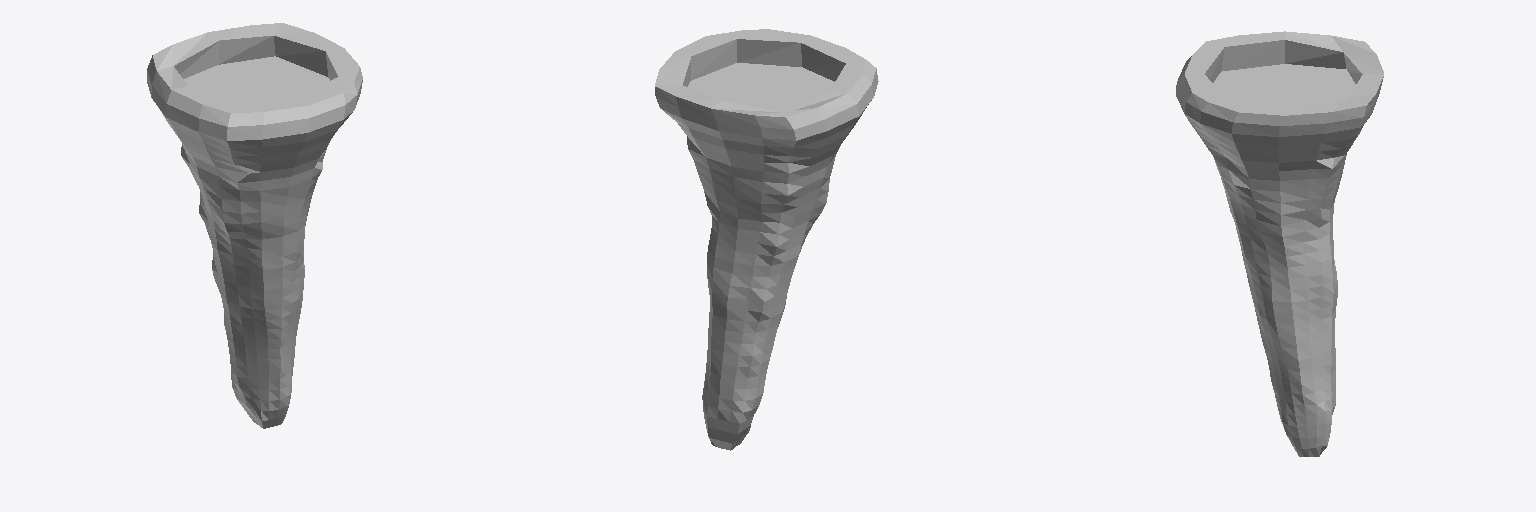
The model's file is Torch.obj.
3 views of the same model, side by side, from view 1: azimuth 30°, elevation 25°; view 2: azimuth 150°, elevation 25°; view 3: azimuth 270°, elevation 25° (orthographic).
Visible parts, largest first — view 1: Cube_Cube.001; view 2: Cube_Cube.001; view 3: Cube_Cube.001.
Boxes of the visible parts, x1=… form: Cube_Cube.001: x1=147, y1=23, x2=362, y2=428; Cube_Cube.001: x1=655, y1=29, x2=878, y2=450; Cube_Cube.001: x1=1176, y1=31, x2=1383, y2=456.
Size of the model in its own units: 31.63 by 61.41 by 31.55.